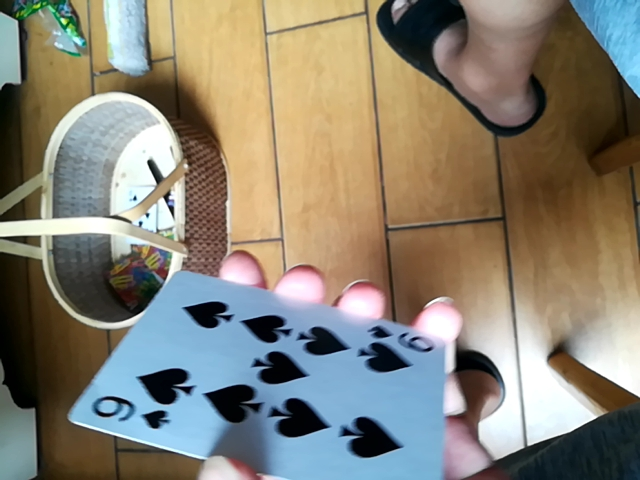ht 9: (74, 263, 468, 477)
